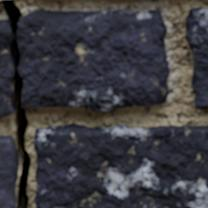brick: (35, 123, 207, 207), (186, 8, 207, 108), (0, 136, 17, 207)
broken_brick: (19, 9, 170, 112), (0, 19, 13, 118)
crack: (0, 0, 31, 207), (41, 102, 63, 107)
